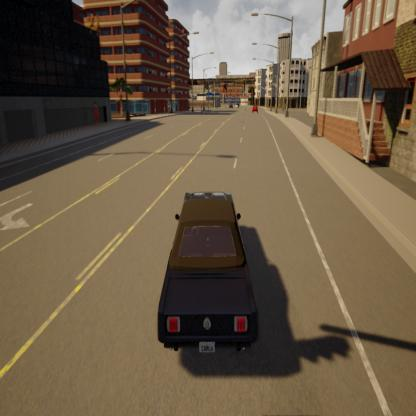Cars: (155, 178, 264, 369), (252, 103, 260, 116), (235, 101, 241, 112), (228, 101, 234, 111)
